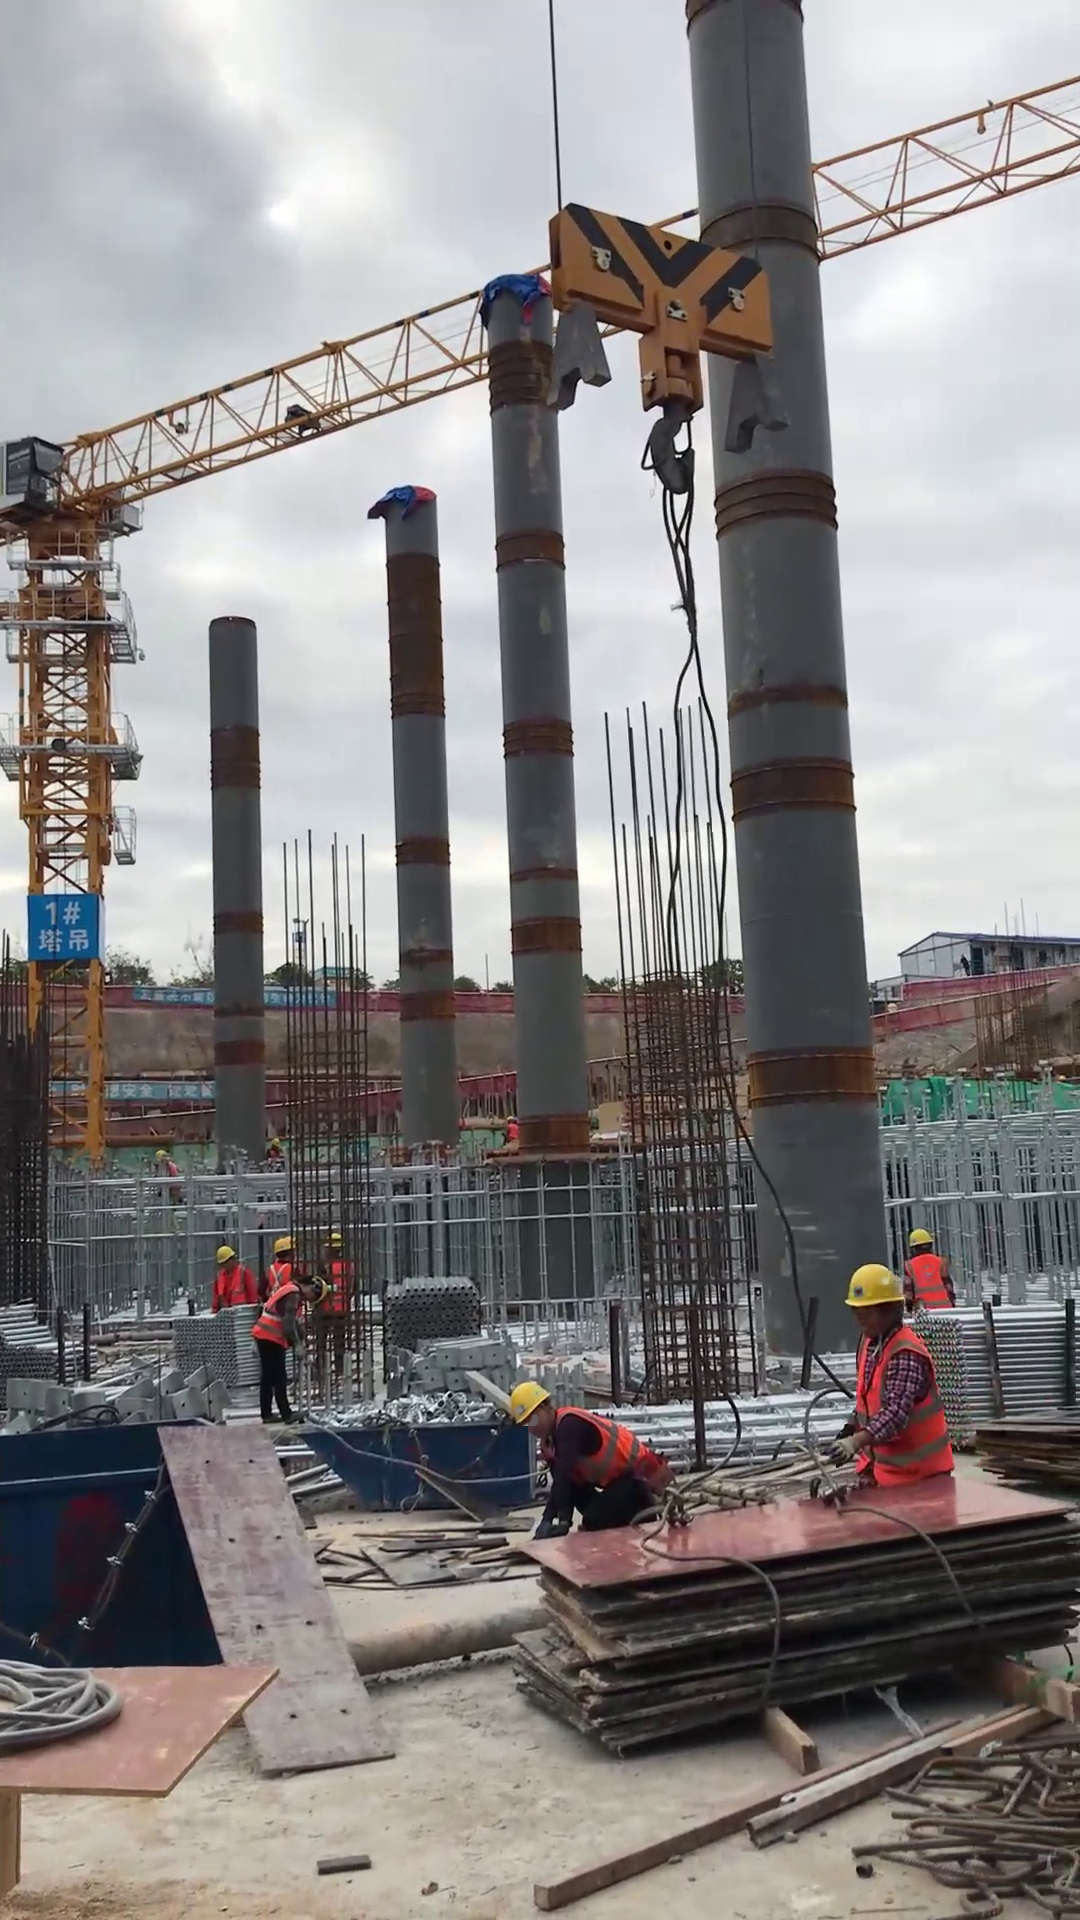board: (492, 1460, 1080, 1772)
helmet: (837, 1259, 912, 1312), (504, 1376, 555, 1439), (265, 1232, 305, 1265), (903, 1228, 938, 1256), (209, 1241, 240, 1270), (309, 1274, 332, 1311)
hook: (540, 191, 797, 508)
hopper: (1, 1420, 197, 1667), (306, 1417, 537, 1517)
person: (500, 1368, 681, 1554), (826, 1260, 965, 1500), (250, 1271, 337, 1434), (895, 1224, 966, 1323), (199, 1238, 269, 1328), (259, 1226, 309, 1302)
scaffold: (919, 1296, 1080, 1432), (375, 1271, 487, 1351), (1, 1304, 96, 1392), (164, 1303, 257, 1390)
slogan: (103, 1081, 222, 1100), (139, 988, 215, 1006)
vest: (849, 1327, 962, 1488), (551, 1404, 678, 1504), (251, 1276, 301, 1357), (905, 1255, 962, 1315), (204, 1266, 256, 1317), (259, 1256, 304, 1296)
